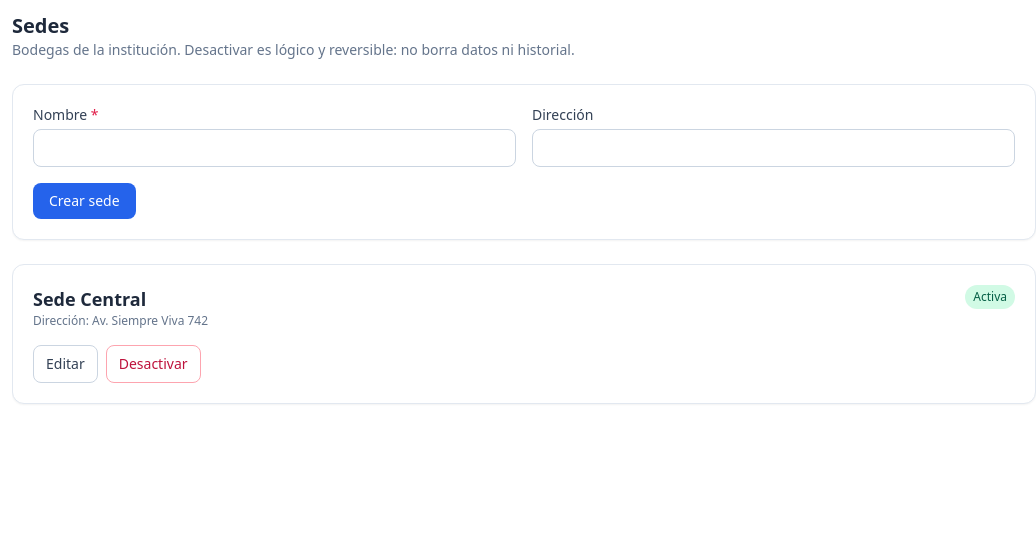
Test: SedesComponent › AC-11: desactivar exige confirmación y persiste el estado con PATCH
What coordinates should you click on to do the following:
click the button "Desactivar"
I would click on:
 (153, 364)
Its box is [106,345,200,383].
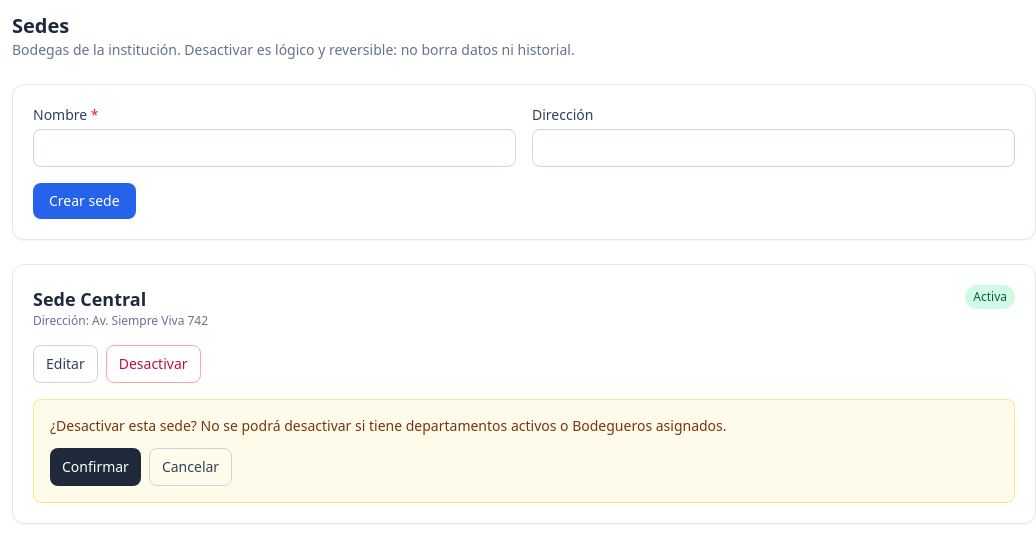
Expected: the text "¿Desactivar esta sede?" is shown, [50,416,727,435]
What coordinates should you click on to do the following:
click the button "Confirmar"
I would click on:
 (95, 467)
Its box is [50,448,141,486].
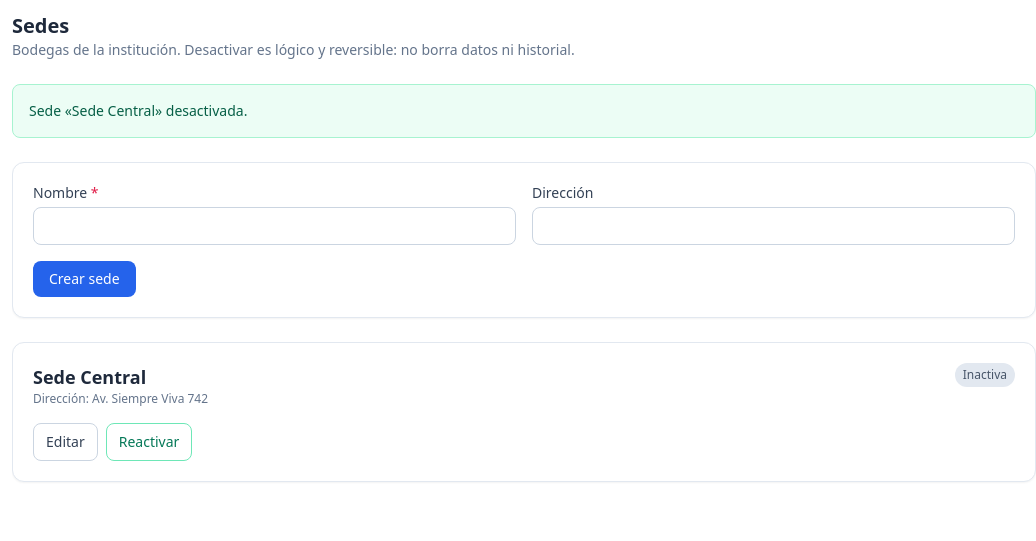
Expected: the text "Inactiva" is shown, [955,363,1015,387]
